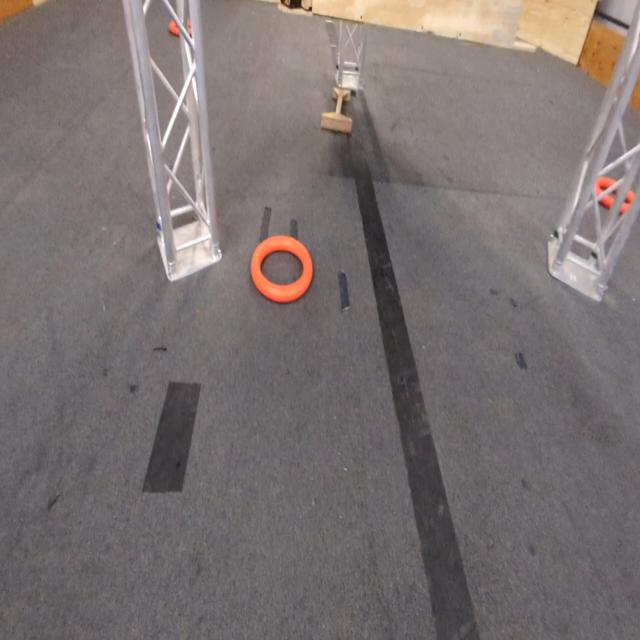note: (252, 239, 315, 304), (592, 171, 637, 220), (168, 18, 194, 36)
